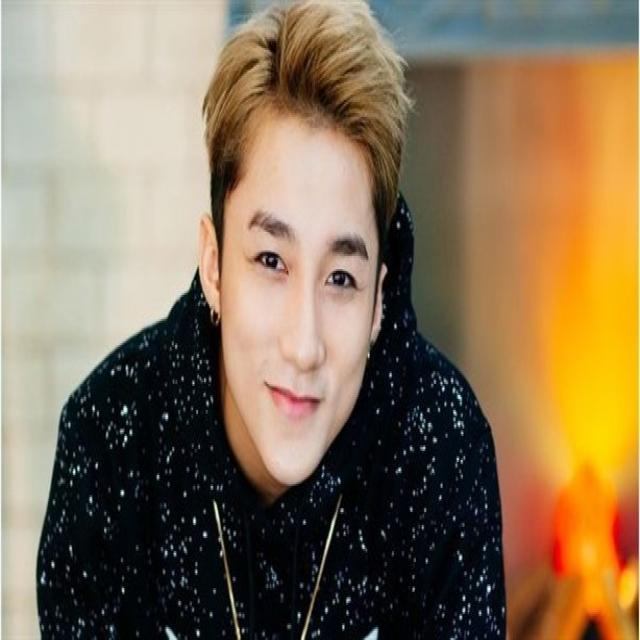Nonhelmet: (194, 2, 415, 491)
